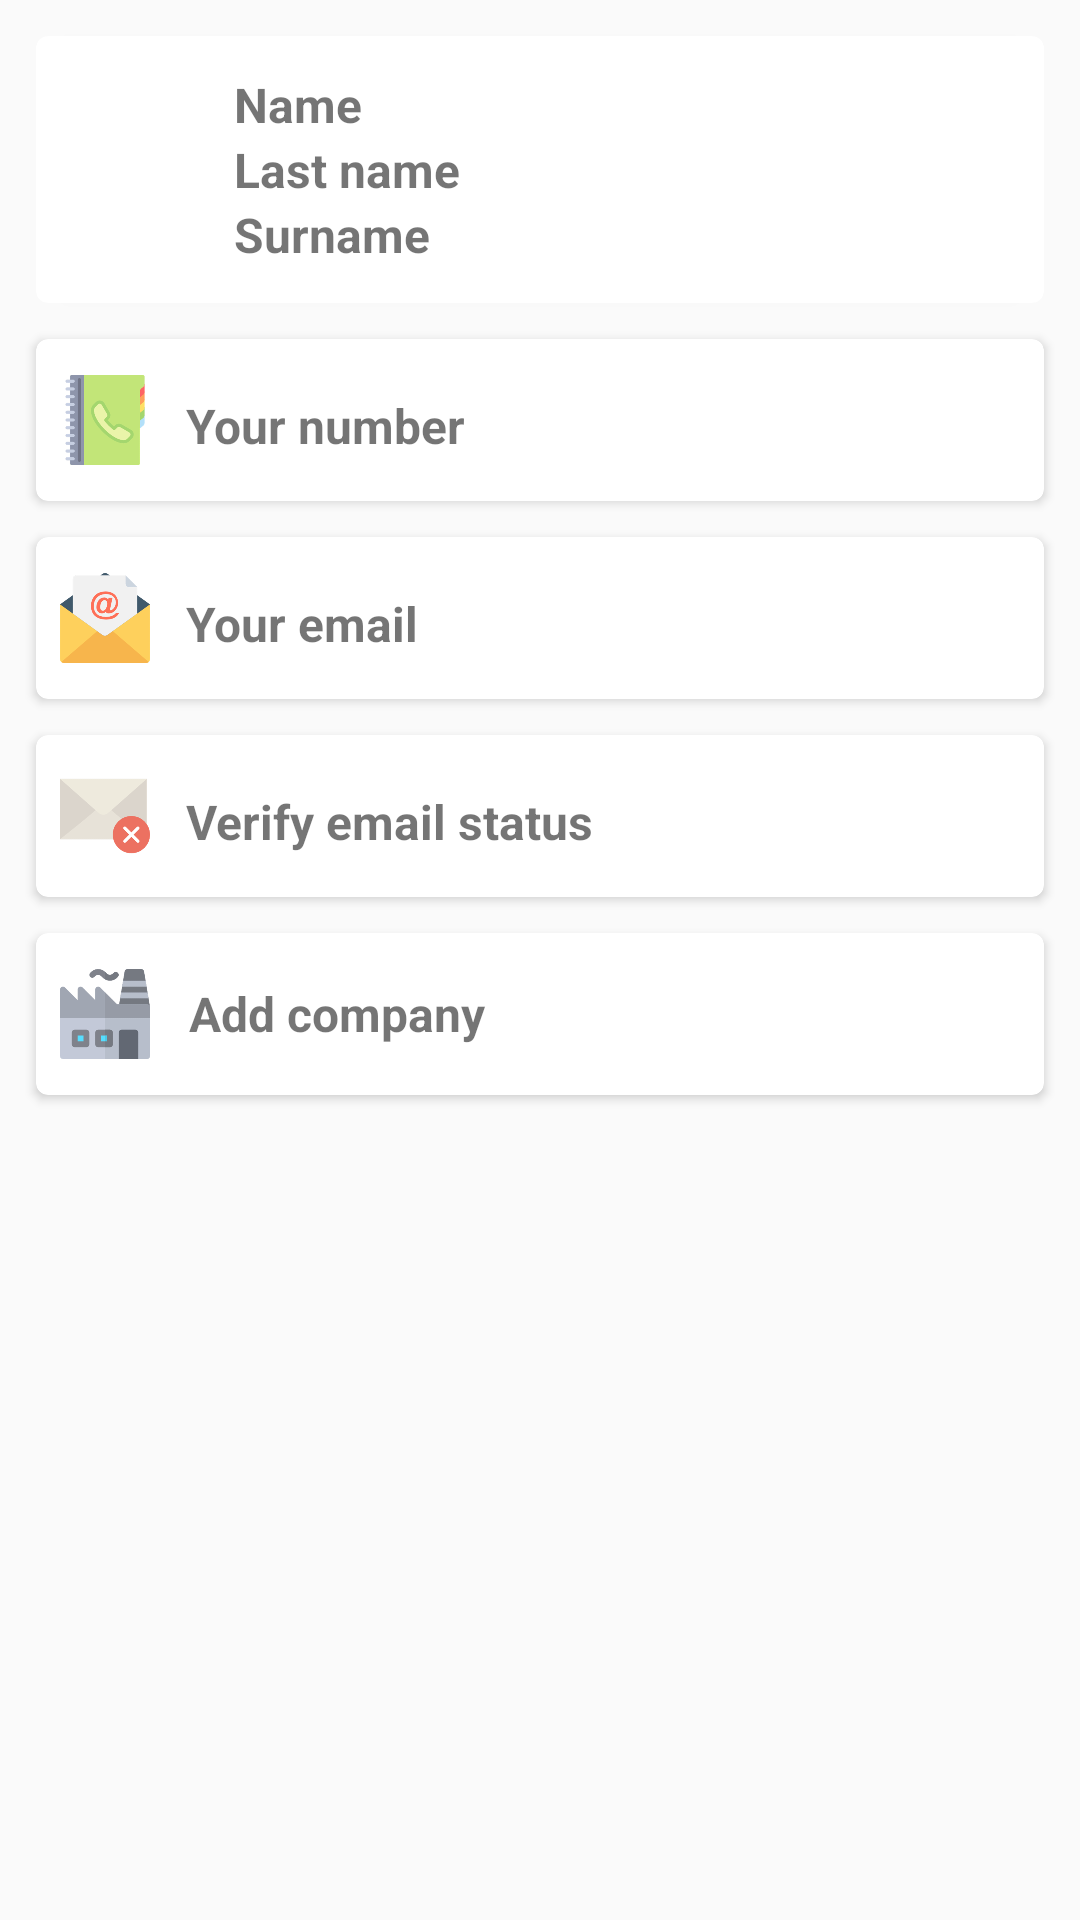

Named icons in this screenshot (1080x1920) and their centers, (x=x, y=y):
envelope: (x=105, y=816)
factory: (x=105, y=1014)
phone number: (x=105, y=420)
